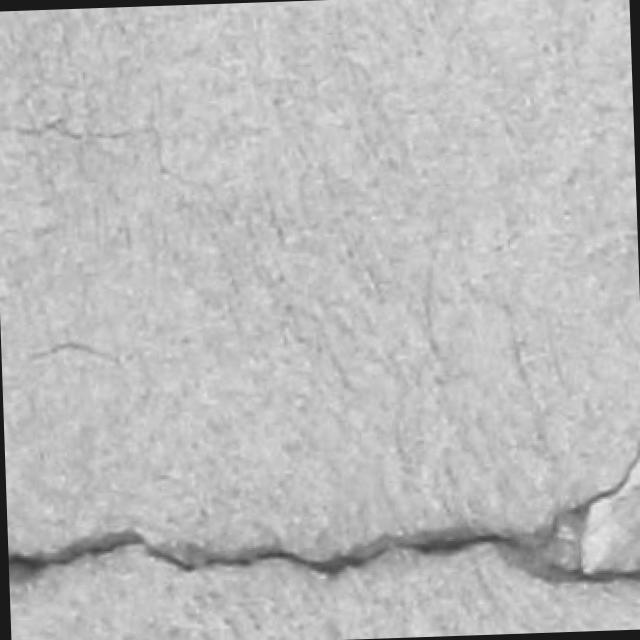crack: (8, 450, 639, 584)
